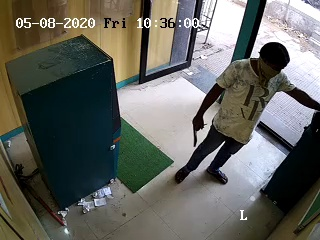open: (135, 2, 263, 85)
